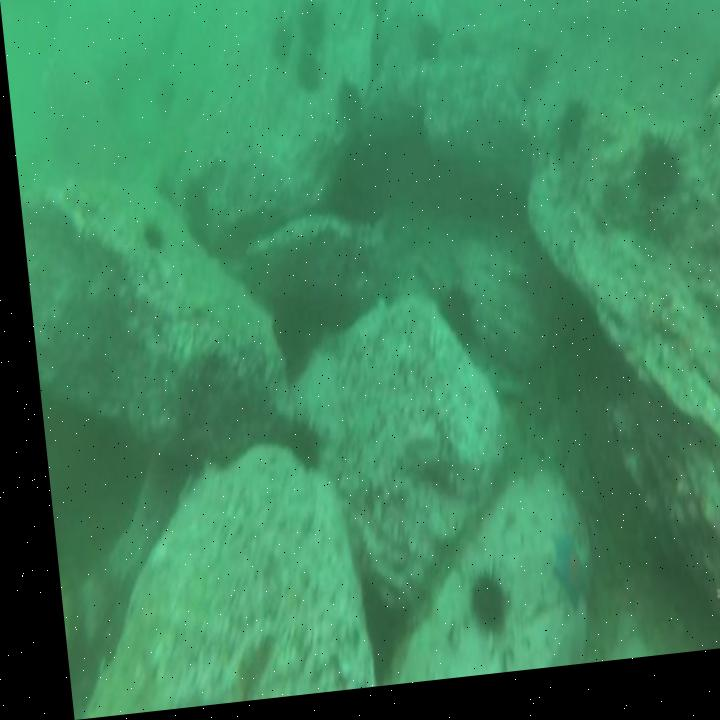echinus: (458, 579, 492, 643), (634, 156, 672, 211), (176, 185, 209, 242), (435, 299, 463, 352), (294, 2, 323, 52), (277, 426, 306, 471), (411, 28, 442, 69), (558, 114, 582, 157), (334, 87, 360, 126), (295, 59, 314, 98)
starfish: (536, 546, 576, 619), (590, 590, 621, 630)
